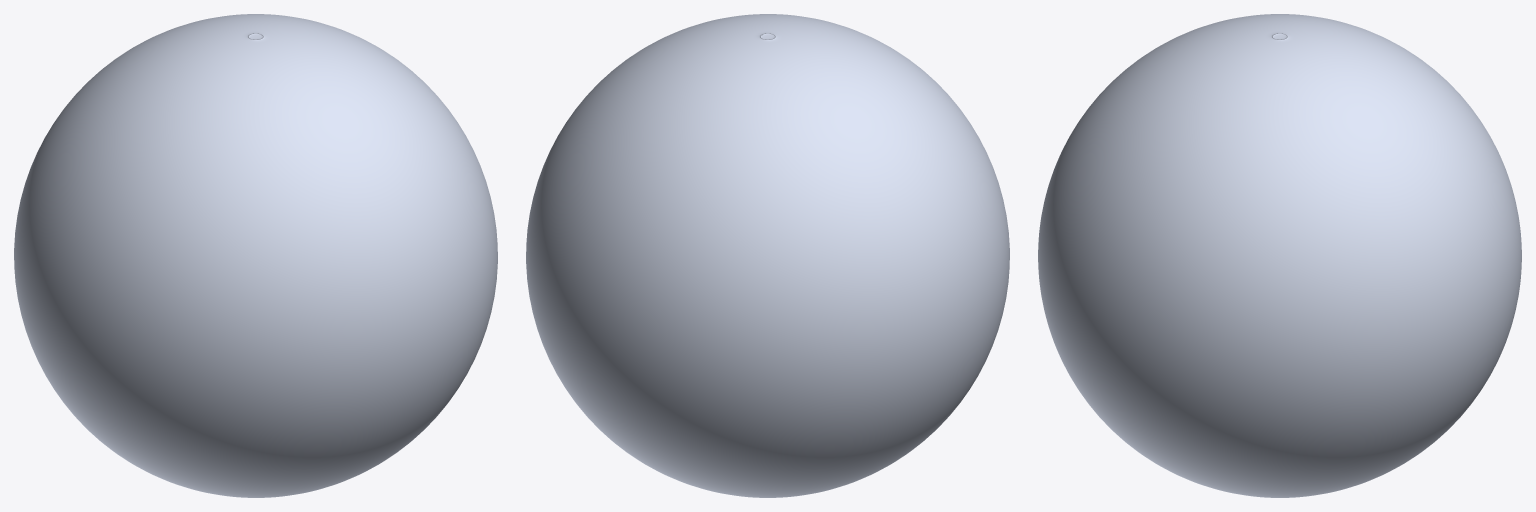
The model's file is dewdrop.glb.
The picture shows the model from 3 angles, left to right: view 1: azimuth 30°, elevation 25°; view 2: azimuth 150°, elevation 25°; view 3: azimuth 270°, elevation 25°; orthographic projection.
Size of the model in its own units: 0.024 by 0.024 by 0.024.
